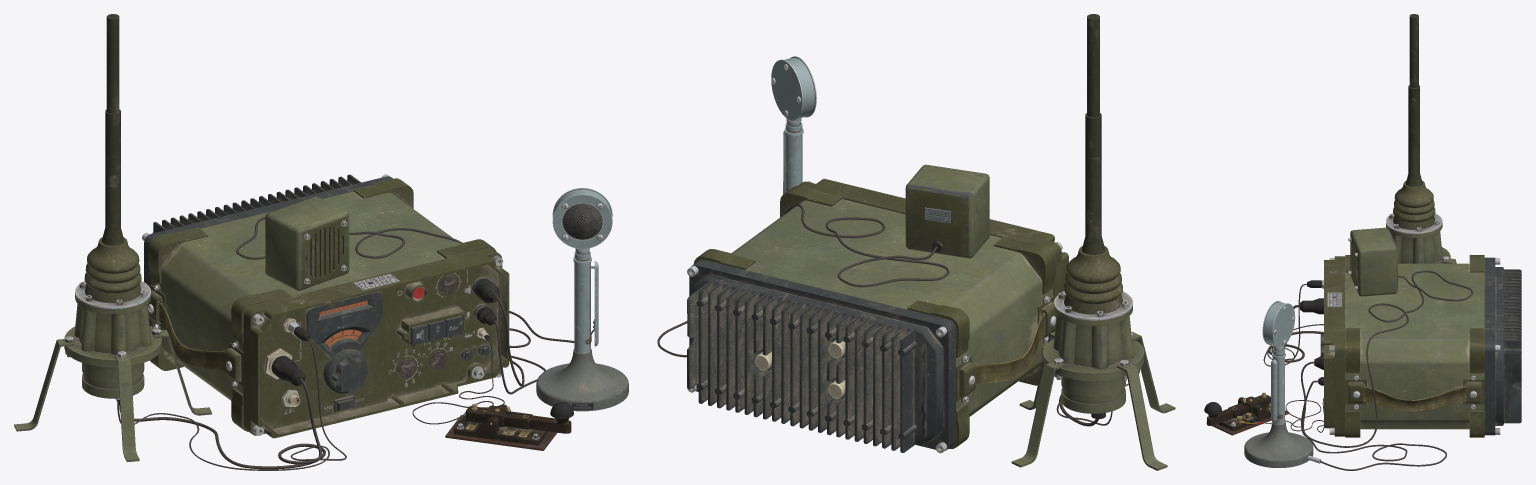
The model's file is vintage_radio_transceiver.glb.
The picture shows the model from 3 angles, left to right: view 1: azimuth 30°, elevation 25°; view 2: azimuth 150°, elevation 25°; view 3: azimuth 270°, elevation 25°; orthographic projection. The views are drawn at different scales.
Visible parts, largest first — view 1: vintage_radio_transceiver, vintage_radio_transceiver_antenna, vintage_radio_transceiver_microphone, vintage_radio_transceiver_speaker, vintage_radio_transceiver_cables, vintage_radio_transceiver_morse_key_base, vintage_radio_transceiver_morse_key_arm, vintage_radio_transceiver_dial, vintage_radio_transceiver_antenna_plug_a; view 2: vintage_radio_transceiver, vintage_radio_transceiver_antenna, vintage_radio_transceiver_speaker, vintage_radio_transceiver_microphone, vintage_radio_transceiver_cables; view 3: vintage_radio_transceiver, vintage_radio_transceiver_antenna, vintage_radio_transceiver_microphone, vintage_radio_transceiver_cables, vintage_radio_transceiver_speaker, vintage_radio_transceiver_morse_key_arm, vintage_radio_transceiver_morse_key_base.
Boxes of the visible parts, x1,y1,x2,y2 form: vintage_radio_transceiver: [142, 174, 509, 438]; vintage_radio_transceiver_antenna: [14, 14, 211, 461]; vintage_radio_transceiver_microphone: [536, 188, 628, 411]; vintage_radio_transceiver_speaker: [265, 196, 349, 290]; vintage_radio_transceiver_cables: [117, 217, 574, 470]; vintage_radio_transceiver_morse_key_base: [445, 404, 557, 450]; vintage_radio_transceiver_morse_key_arm: [466, 402, 573, 433]; vintage_radio_transceiver_dial: [323, 329, 369, 393]; vintage_radio_transceiver_antenna_plug_a: [271, 355, 305, 385]; vintage_radio_transceiver: [687, 178, 1068, 453]; vintage_radio_transceiver_antenna: [1011, 14, 1175, 470]; vintage_radio_transceiver_speaker: [905, 164, 989, 258]; vintage_radio_transceiver_microphone: [771, 56, 816, 194]; vintage_radio_transceiver_cables: [657, 204, 1139, 426]; vintage_radio_transceiver: [1324, 255, 1521, 437]; vintage_radio_transceiver_antenna: [1386, 14, 1456, 263]; vintage_radio_transceiver_microphone: [1244, 301, 1321, 467]; vintage_radio_transceiver_cables: [1261, 270, 1473, 470]; vintage_radio_transceiver_speaker: [1348, 227, 1397, 296]; vintage_radio_transceiver_morse_key_arm: [1204, 392, 1270, 425]; vintage_radio_transceiver_morse_key_base: [1206, 397, 1289, 435].
Size of the model in its own units: 0.574 by 0.4344 by 0.4131.
Materials: 2 (2 with a texture image).
